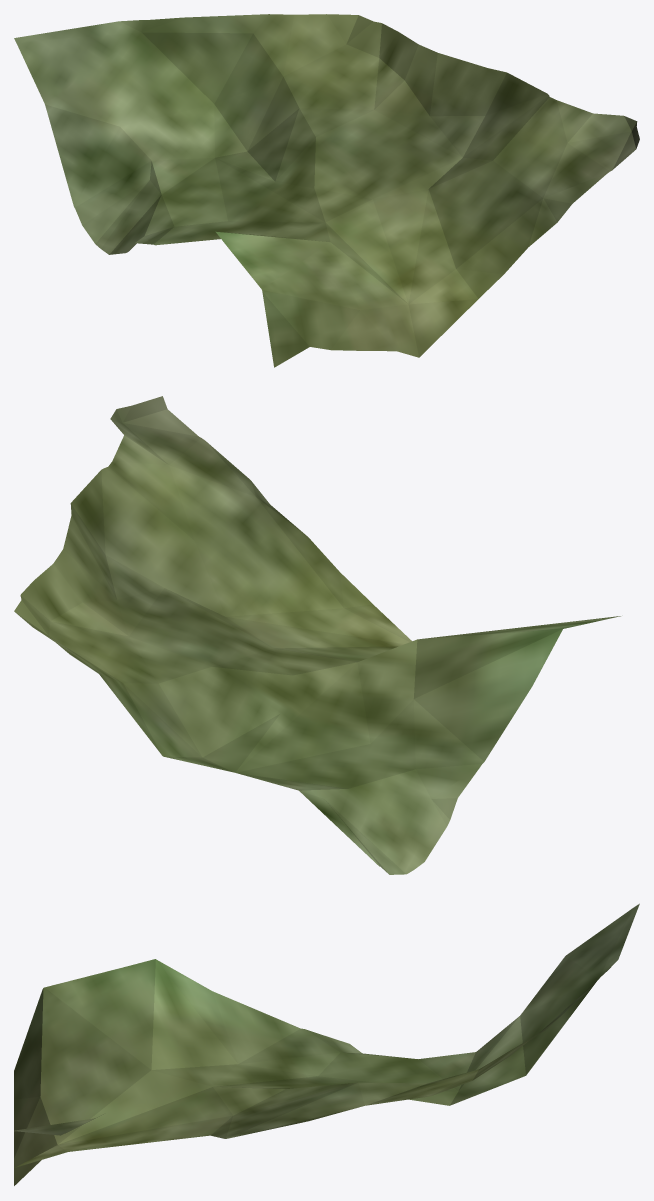
The picture shows the model from 3 angles, top to bottom: view 1: azimuth 30°, elevation 25°; view 2: azimuth 150°, elevation 25°; view 3: azimuth 270°, elevation 25°; orthographic projection. The views are drawn at different scales.
Bounding box in the file's own units: 1.51 × 0.6195 × 1.77.
Materials: 1 (1 with a texture image).
